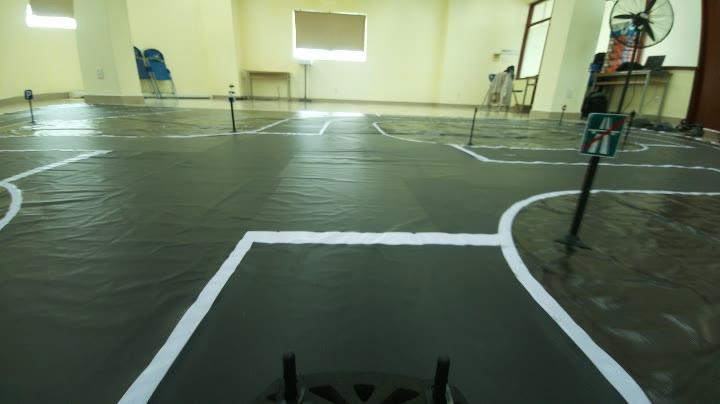highway_exit: (573, 102, 627, 169)
